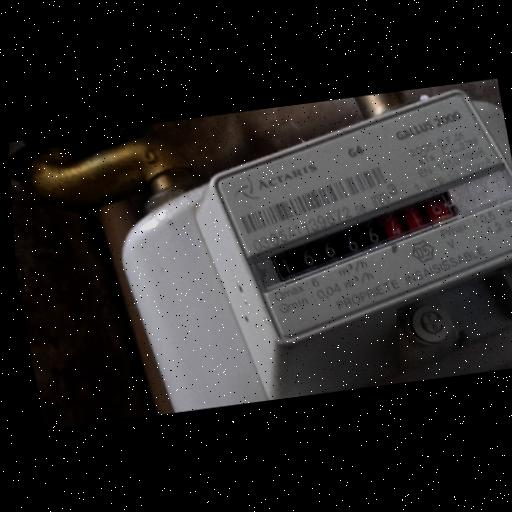1: (399, 201, 429, 235), (274, 249, 303, 279)
4: (377, 208, 409, 242)
6: (336, 224, 368, 259), (358, 217, 387, 250), (316, 231, 345, 263), (294, 241, 322, 271)
8: (421, 192, 455, 226)
border_water_meter_number: (245, 181, 472, 292)
